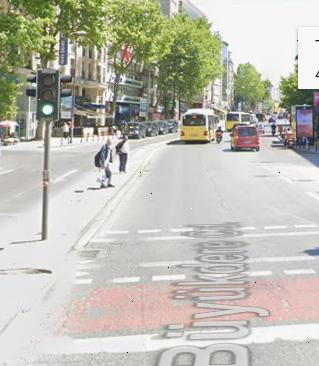greenlight: (36, 70, 59, 119)
